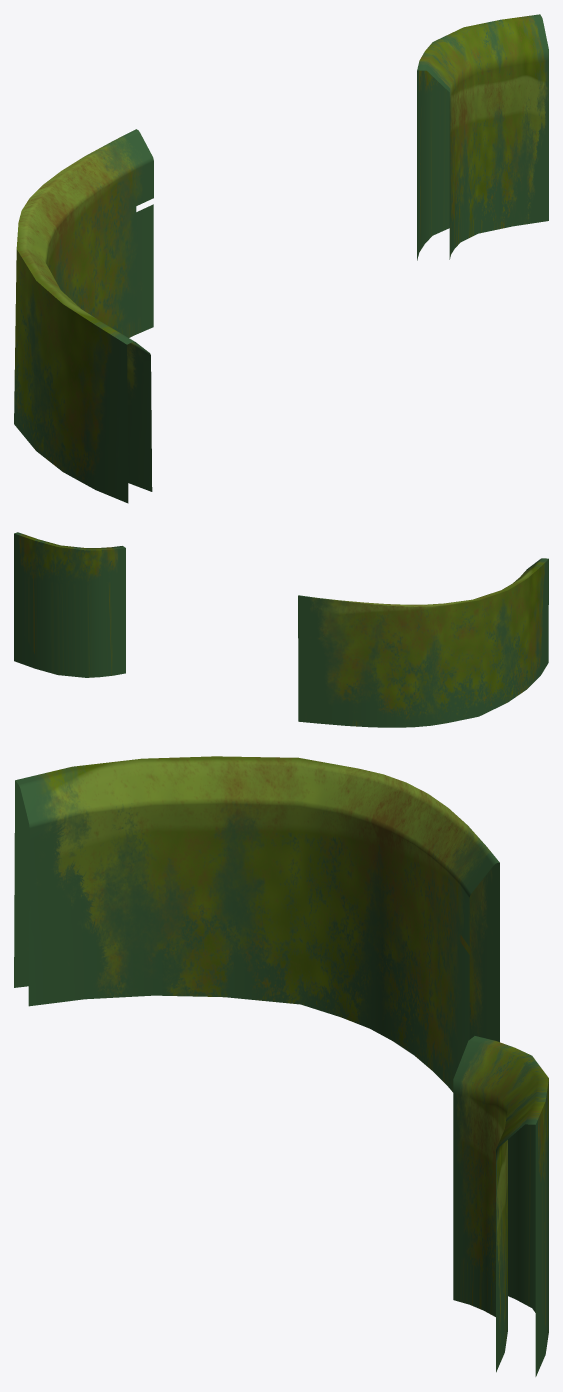
File: MossWalls2.fbx
3 views of the same model, one above another, from view 1: azimuth 30°, elevation 25°; view 2: azimuth 150°, elevation 25°; view 3: azimuth 270°, elevation 25° (orthographic). The views are drawn at different scales.
Parts seen in each view (by area): view 1: Cube.004, Cube.001; view 2: Cube.004, Cube.001; view 3: Cube.004, Cube.001.
Boxes of the visible parts, left/top/right/bottom form: Cube.004: left=14, top=129, right=153, bottom=503; Cube.001: left=417, top=14, right=548, bottom=260; Cube.004: left=298, top=558, right=548, bottom=727; Cube.001: left=14, top=532, right=125, bottom=677; Cube.004: left=14, top=756, right=499, bottom=1092; Cube.001: left=453, top=1036, right=548, bottom=1376.
Size of the model in its own units: 48.74 by 14.44 by 27.56.
